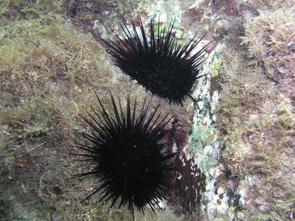urchin: (72, 97, 195, 212), (99, 15, 214, 98)
